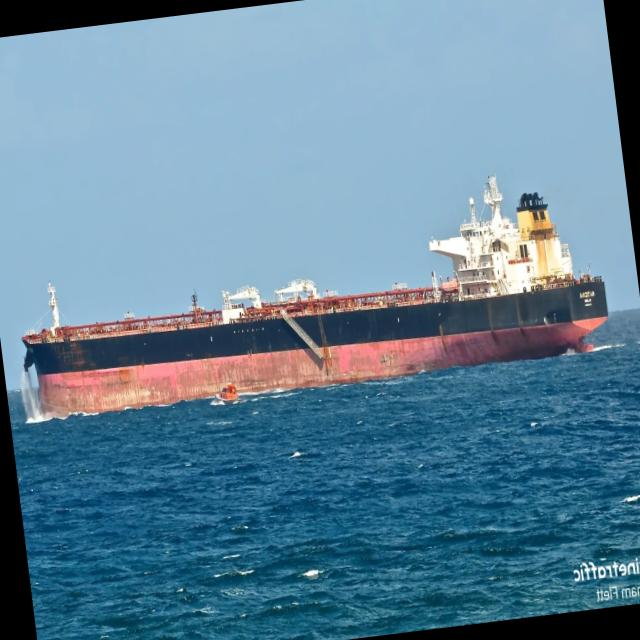Tanker: (22, 176, 607, 416)
